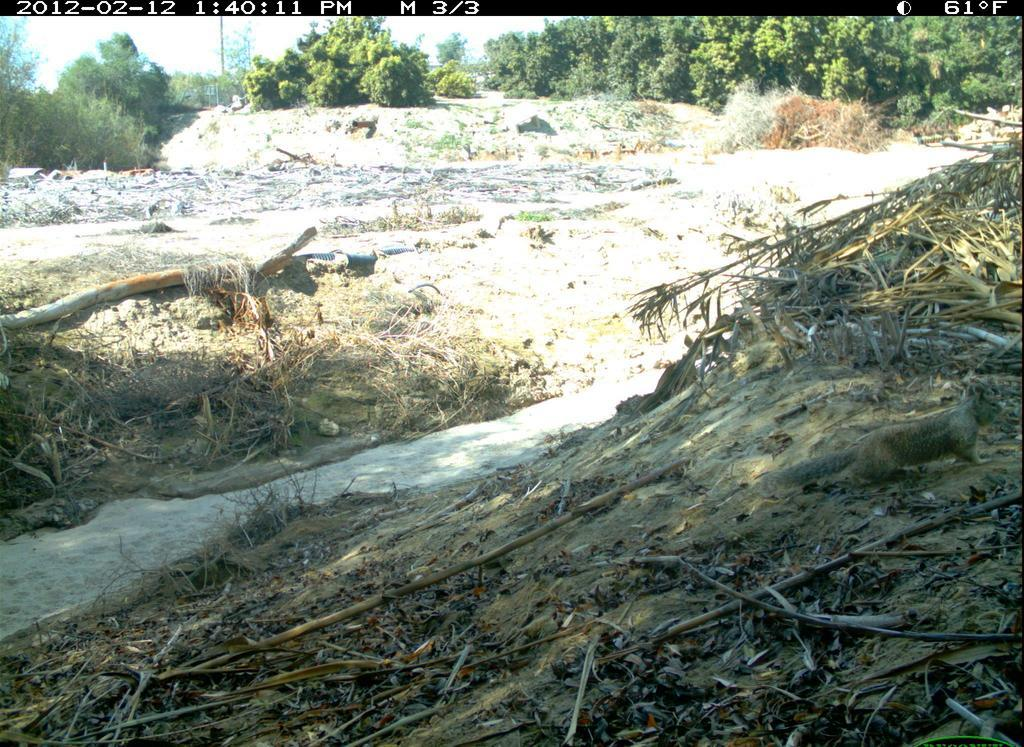squirrel: (751, 385, 1008, 500)
